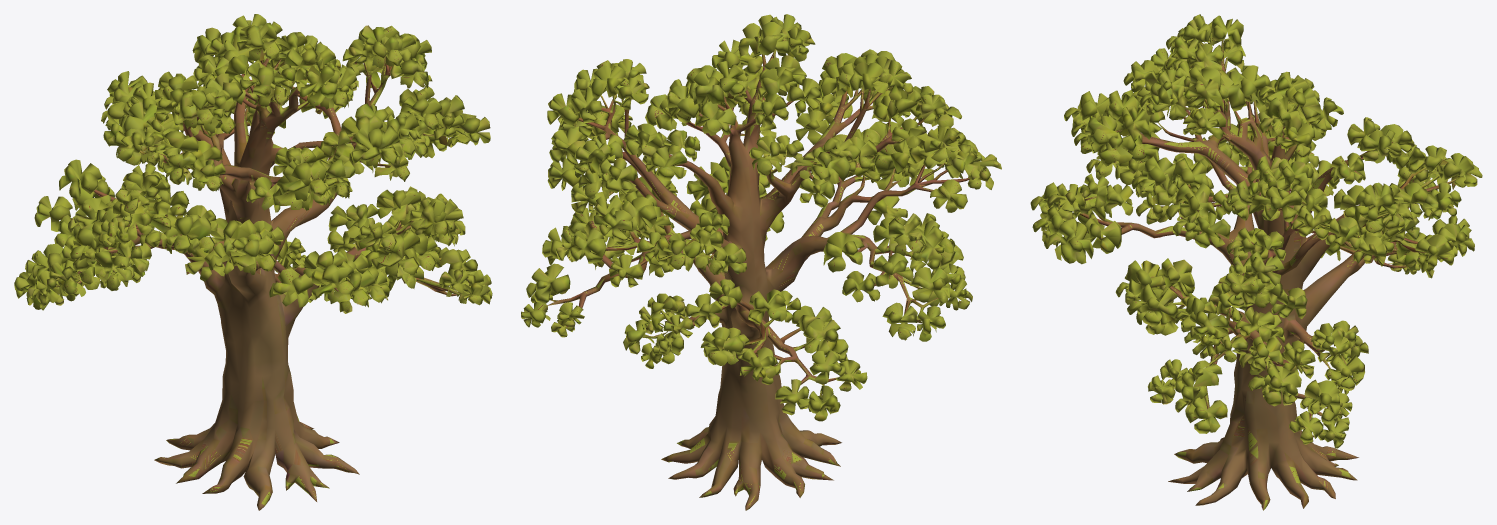
The model's file is tree-9.glb.
3 renders of one model, left to right at view 1: azimuth 30°, elevation 25°; view 2: azimuth 150°, elevation 25°; view 3: azimuth 270°, elevation 25°, orthographic. The views are drawn at different scales.
Bounding box in the file's own units: 0.9995 × 0.9507 × 0.9302.
1 material, 1 textured.
